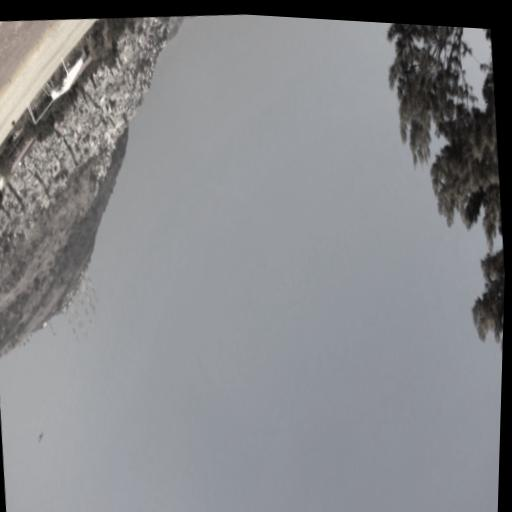drones: (36, 429, 45, 445)
